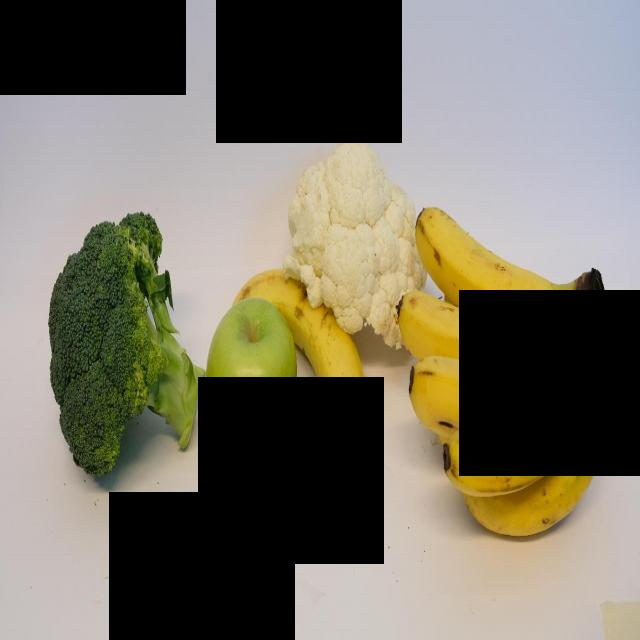apple: (208, 295, 296, 461)
banana: (224, 262, 370, 472), (448, 335, 594, 501), (463, 396, 614, 540), (413, 199, 594, 309), (407, 323, 568, 433), (395, 283, 567, 353)
broccoli: (48, 210, 205, 482)
cauliflower: (287, 134, 430, 351)
